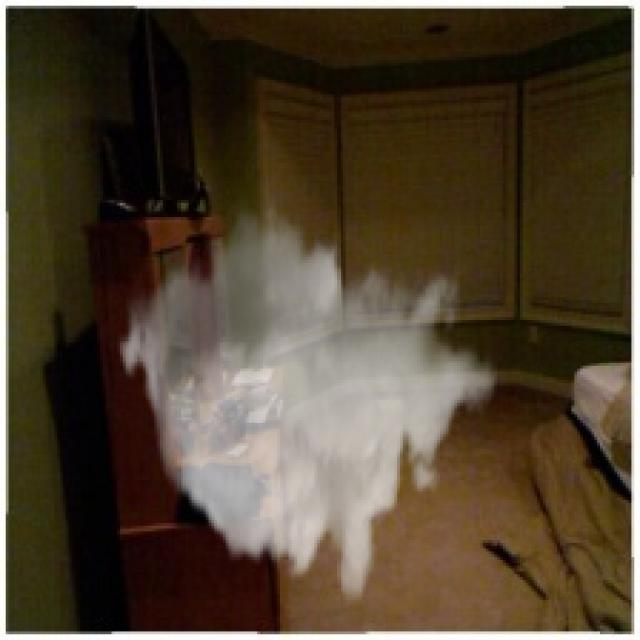smoke: (114, 197, 497, 609)
